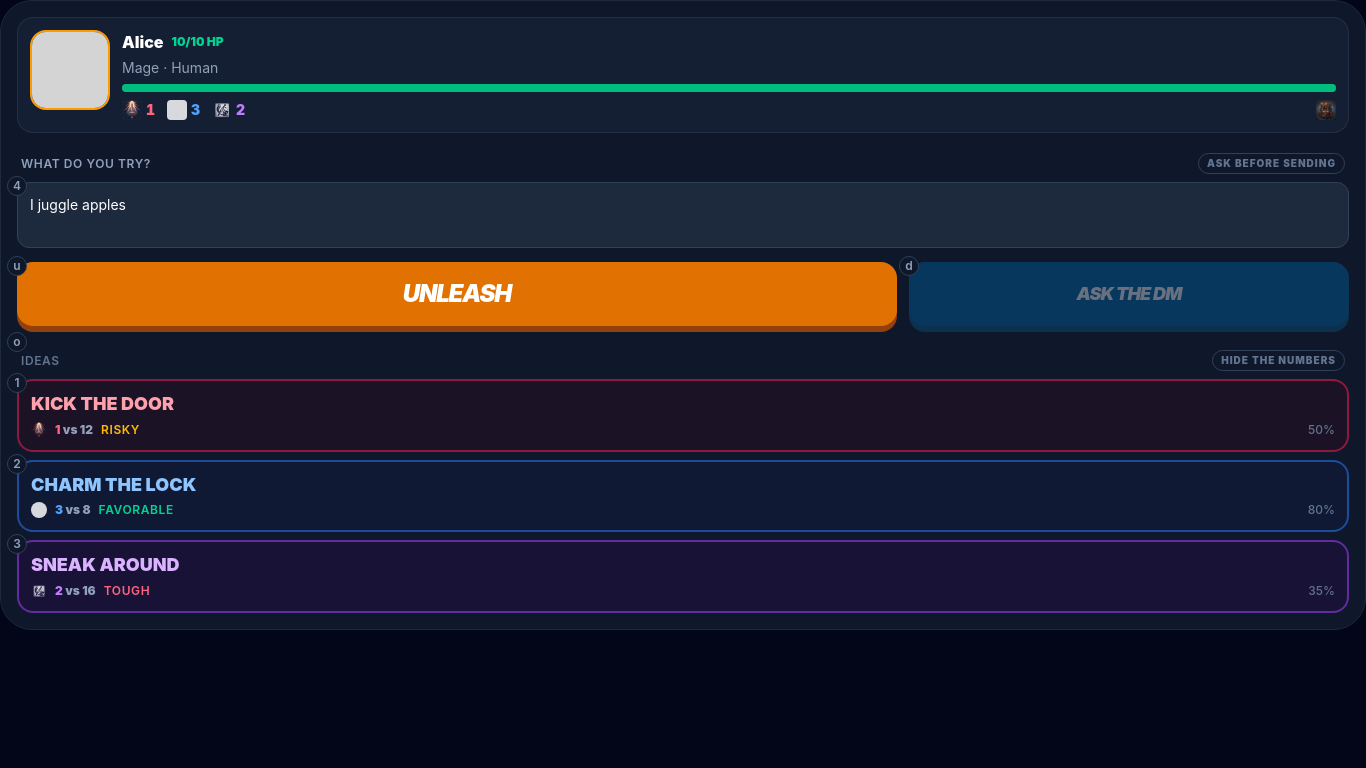
it: ActionDock one-tap free actions › takes the action back on Undo, keeping the draft
What coordinates should you click on to do the following:
click the button "UNLEASH"
I would click on:
 (457, 294)
Its box is [17, 262, 897, 326].
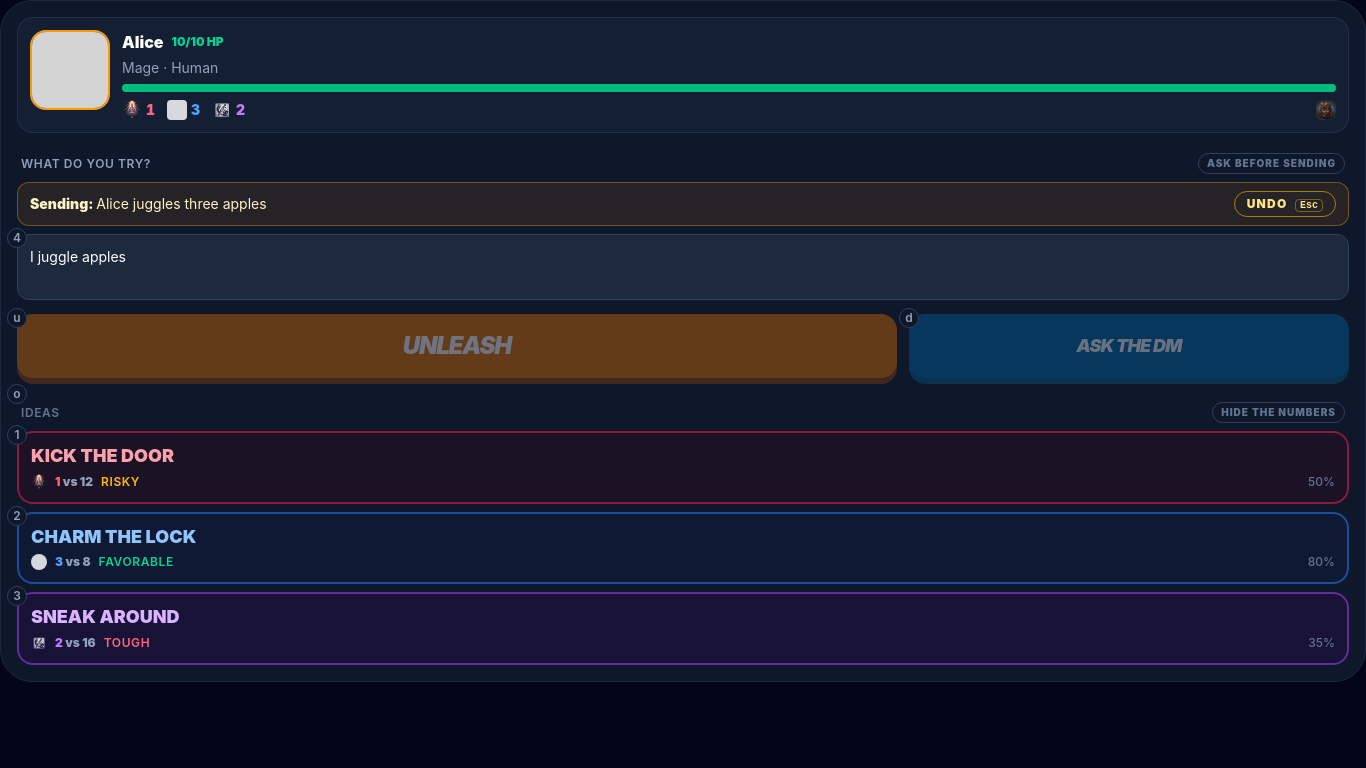
What coordinates should you click on to do the following:
click the button "Undo Esc"
I would click on:
 (1285, 204)
Its box is [1234, 191, 1336, 217].
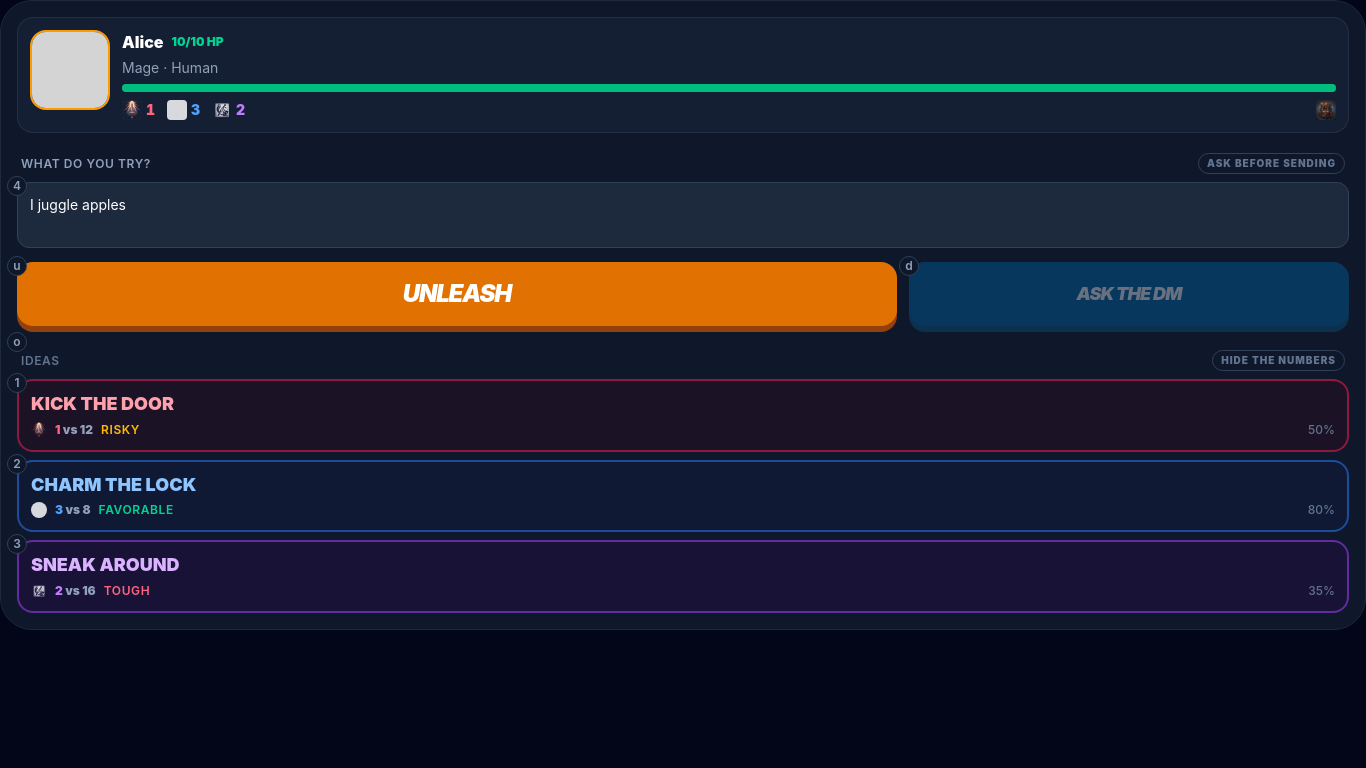
Check: the text box labelled "What do you try?" holds "I juggle apples", box [17, 182, 1349, 248]
Check: the text "Alice juggles three apples" is gone
